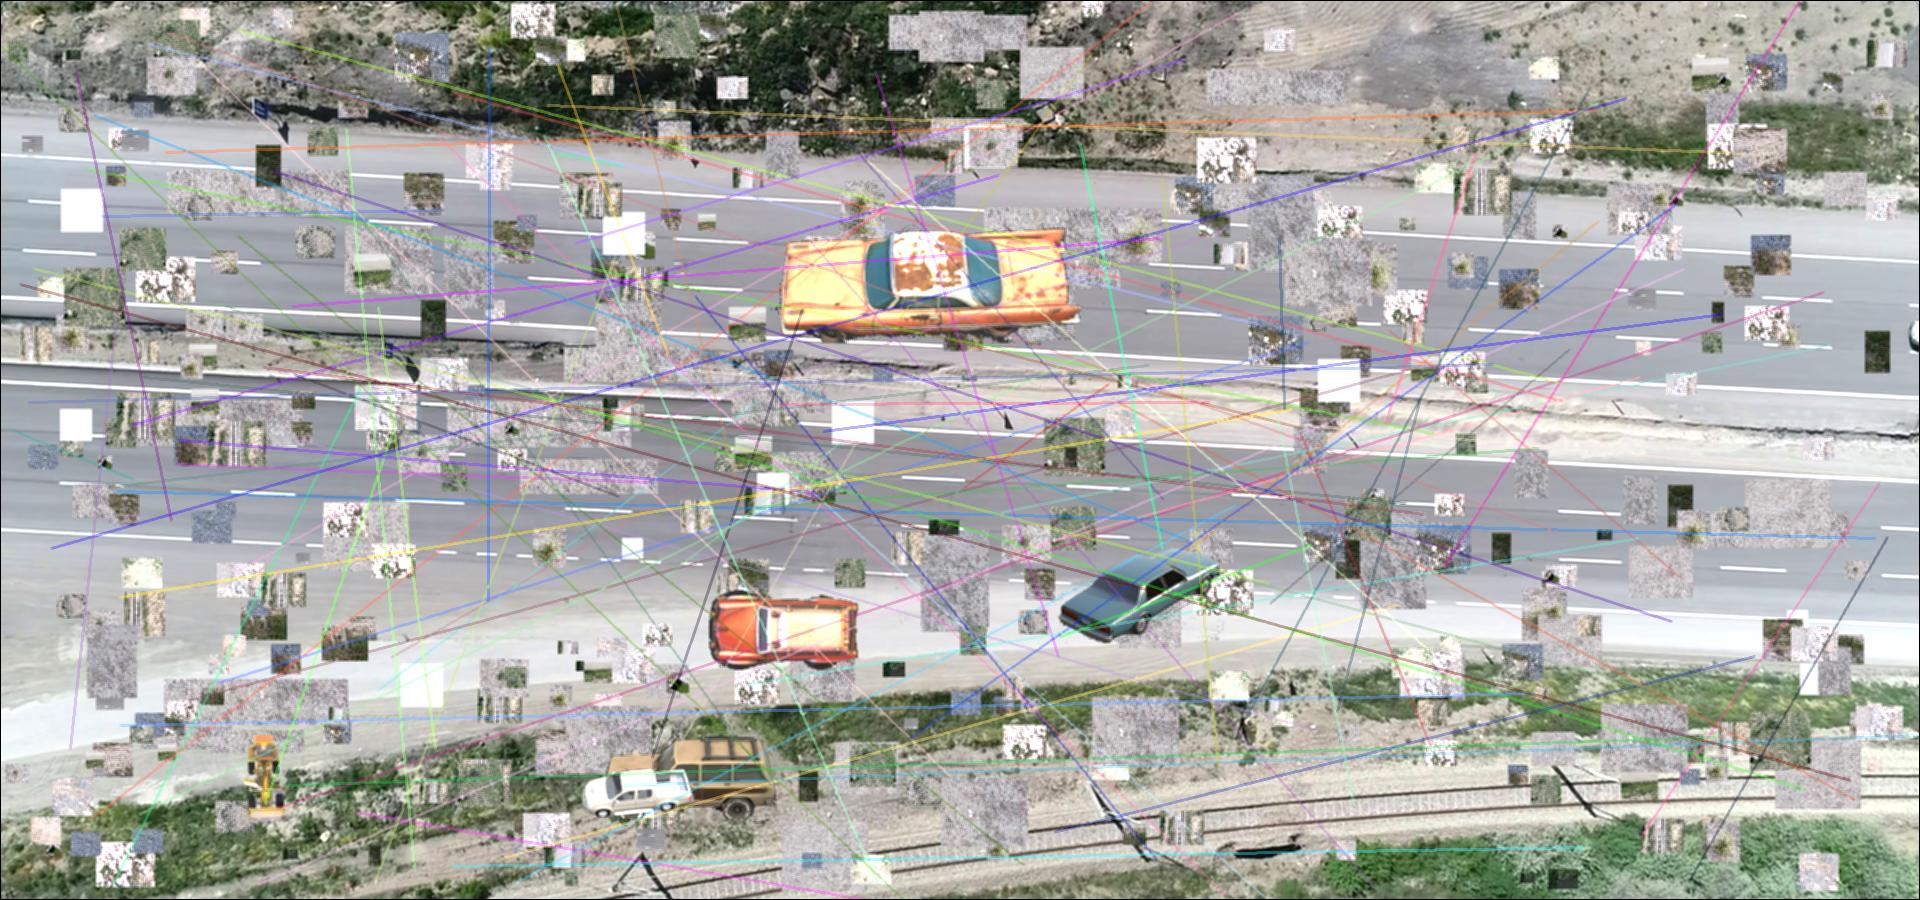arac: (767, 225, 1118, 343), (1051, 546, 1224, 643), (600, 731, 778, 823), (707, 590, 863, 672), (582, 763, 696, 817), (241, 733, 290, 823)
